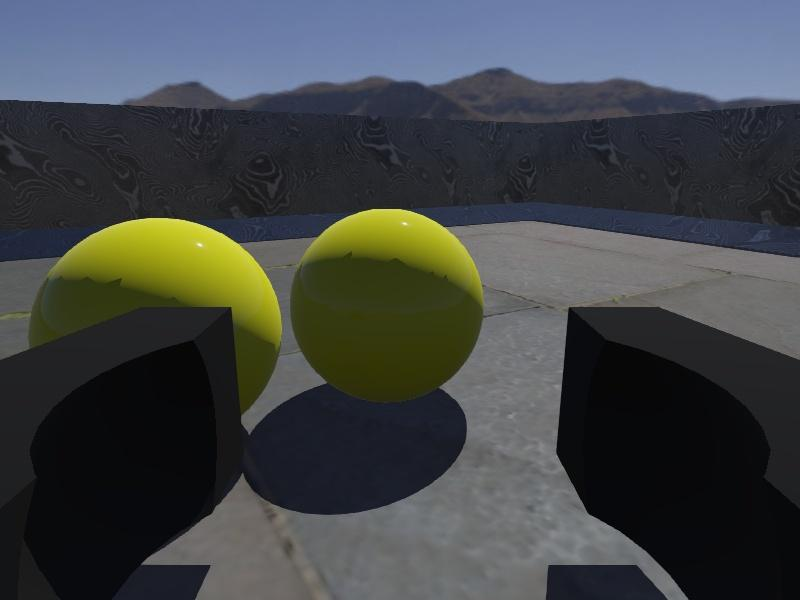yellow ball: (289, 208, 485, 404)
